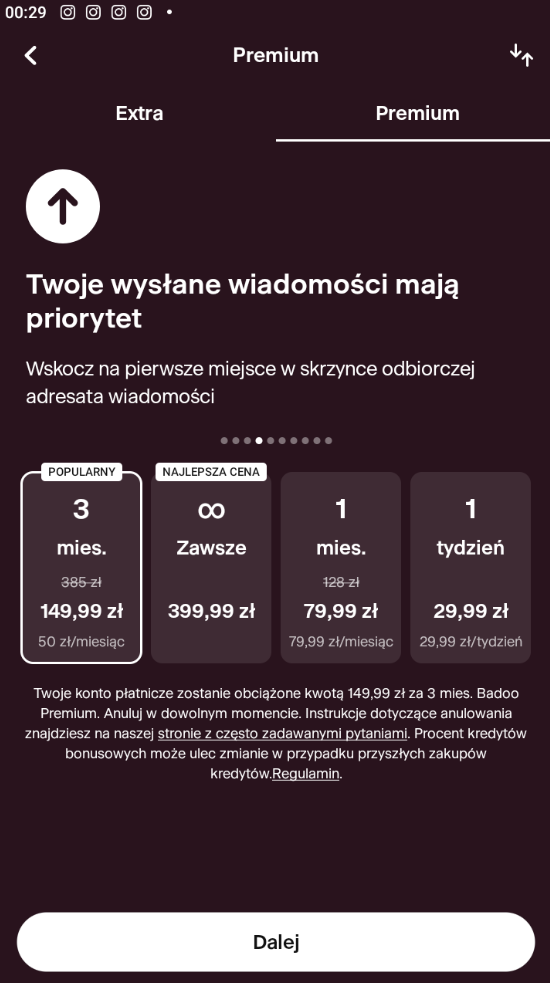kupno_button: (21, 910, 533, 971)
